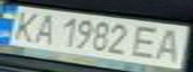1: (54, 15, 78, 48)
2: (106, 20, 136, 56)
8: (90, 19, 112, 54)
9: (72, 17, 96, 52)
A: (151, 26, 190, 63), (30, 11, 60, 46)
E: (130, 22, 166, 61)
K: (3, 8, 45, 43)
